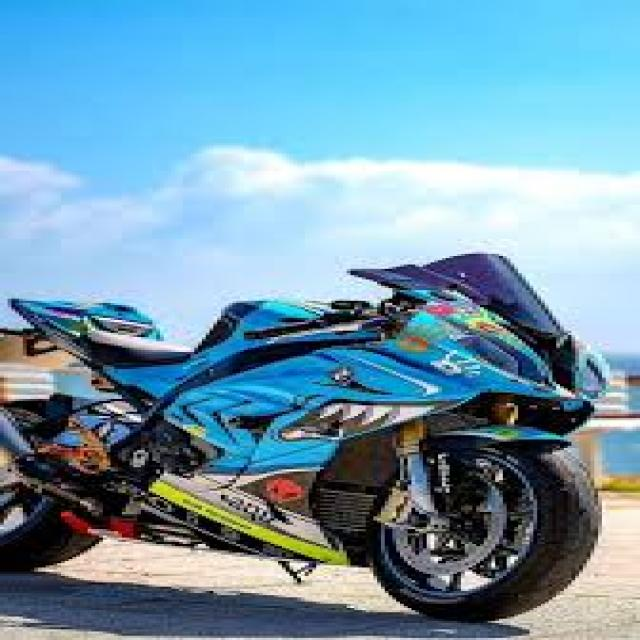Bike: (0, 251, 607, 624)
